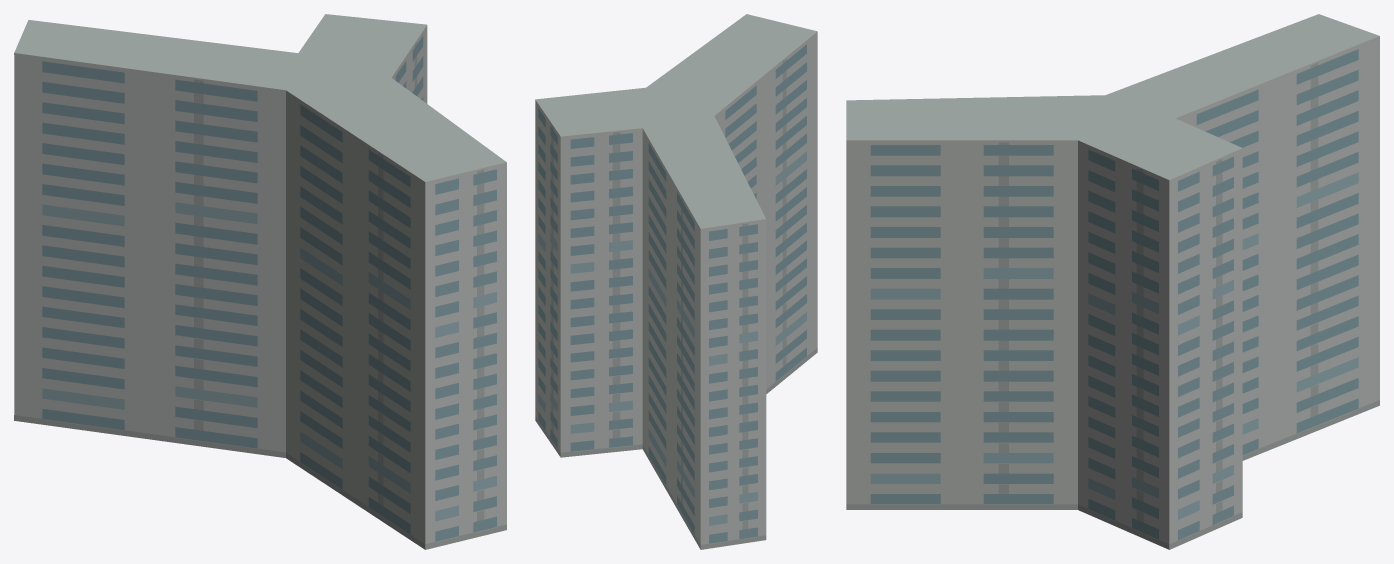
File: residential-5769cfcd-6b81-46a4-a6a5-84eb65e552b9.glb
3 renders of one model, left to right at view 1: azimuth 30°, elevation 25°; view 2: azimuth 150°, elevation 25°; view 3: azimuth 270°, elevation 25°, orthographic. The views are drawn at different scales.
Visible parts, largest first — view 1: residential-5769cfcd-6b81-46a4-a6a5-84eb65e552b9.tmp; view 2: residential-5769cfcd-6b81-46a4-a6a5-84eb65e552b9.tmp; view 3: residential-5769cfcd-6b81-46a4-a6a5-84eb65e552b9.tmp.
Part boxes in pixels (x1,y1,x2,y2): residential-5769cfcd-6b81-46a4-a6a5-84eb65e552b9.tmp: (14, 14, 506, 549); residential-5769cfcd-6b81-46a4-a6a5-84eb65e552b9.tmp: (535, 14, 817, 549); residential-5769cfcd-6b81-46a4-a6a5-84eb65e552b9.tmp: (846, 14, 1379, 549).
Bounding box in the file's own units: 46.29 × 48 × 62.81.
